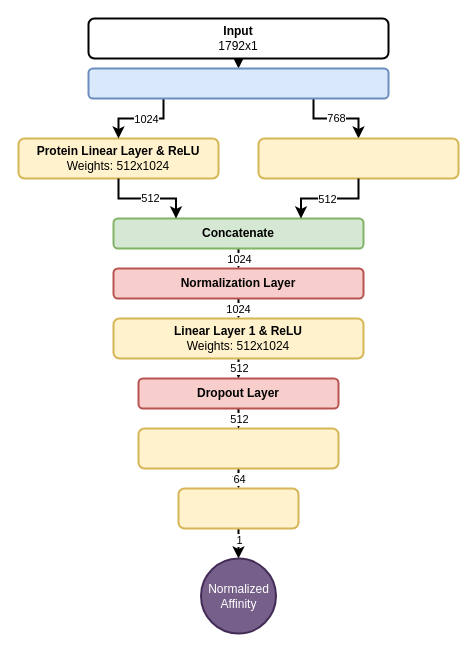
The diagram is 476 pixels wide and 651 high, and some of its shapes have lost their labels. The shapes that lost their labels are listed below. From the top down, each one's centre as x and y in pixels, then its label:
At point (238, 83): "Split".
At point (358, 158): "Molecule Linear Layer & ReLU Weights: 512x768".
At point (238, 448): "Linear Layer 2 & ReLU Weights: 64x512".
At point (238, 508): "Linear Layer 3 Weights: 1x64".
